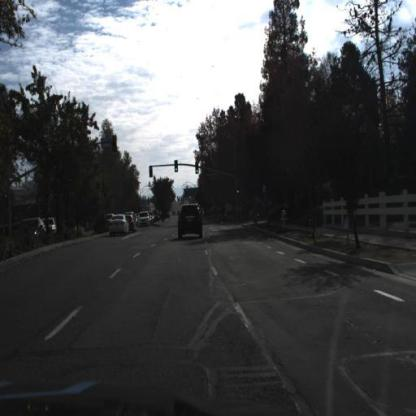car: (175, 199, 206, 243), (14, 217, 47, 240), (107, 211, 130, 235), (138, 211, 150, 229)
trafficLight: (193, 156, 201, 177), (235, 181, 242, 201), (172, 156, 180, 173), (147, 160, 154, 178)
